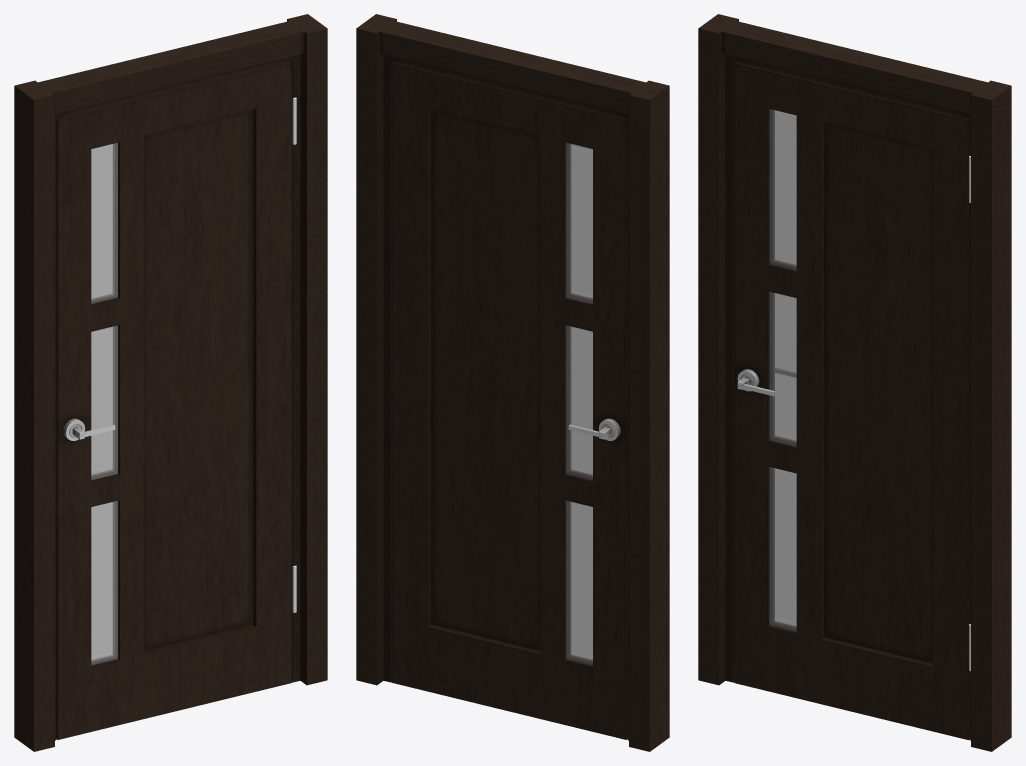
Rendered from modern_wood_door.glb.
3 renders of one model, left to right at view 1: azimuth 30°, elevation 25°; view 2: azimuth 150°, elevation 25°; view 3: azimuth 330°, elevation 25°, orthographic.
Visible parts, largest first — view 1: door2, door2_frame, door2_handles; view 2: door2, door2_frame, door2_handles; view 3: door2, door2_frame, door2_handles.
Boxes of the visible parts, x1,y1,x2,y2 form: door2: [56, 62, 291, 739]; door2_frame: [14, 14, 327, 751]; door2_handles: [63, 418, 115, 440]; door2: [392, 62, 627, 739]; door2_frame: [356, 14, 669, 751]; door2_handles: [568, 418, 620, 440]; door2: [734, 62, 969, 739]; door2_frame: [698, 14, 1011, 751]; door2_handles: [737, 368, 795, 395].
Bounding box in the file's own units: 8.28 × 17.58 × 1.28.
2 materials, 1 textured.
